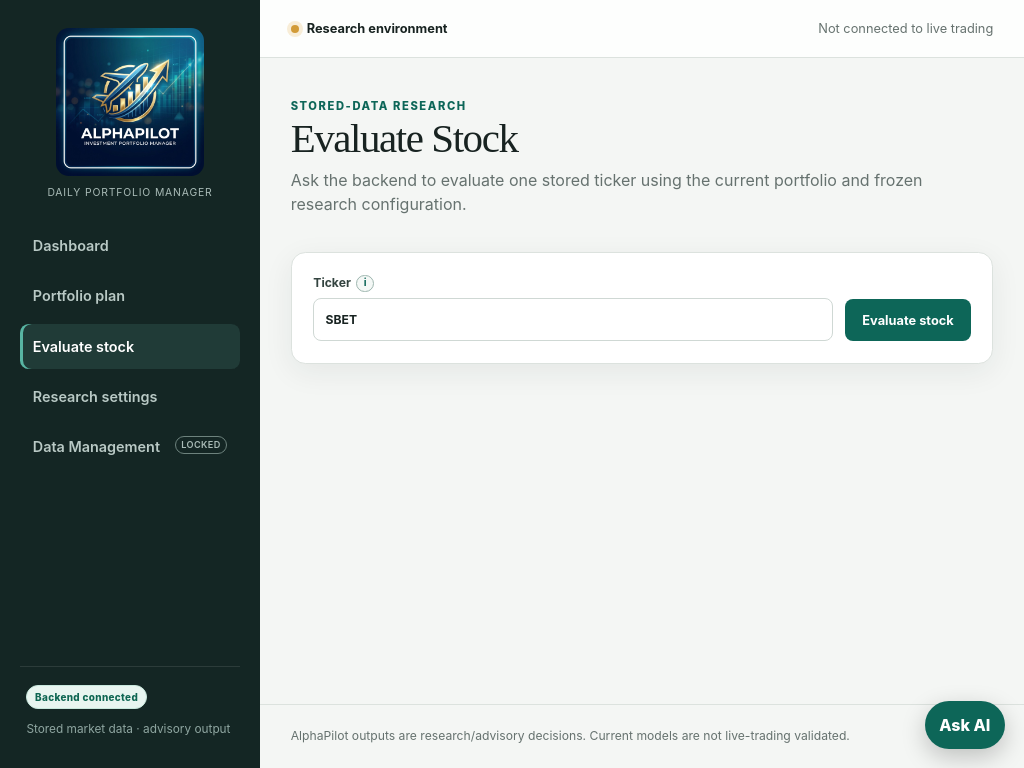
Test: held LDOS cannot replace explicitly requested custom ticker SBET
Click the button "Evaluate stock".
click(908, 320)  # box [845,299,971,341]
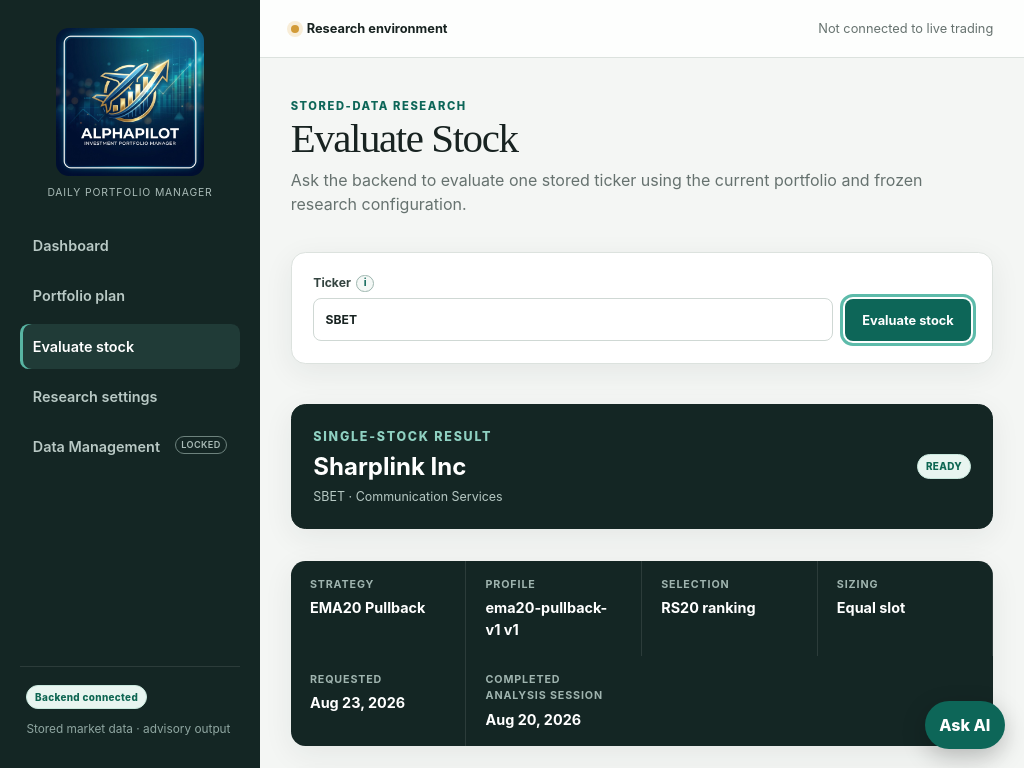
Result: the heading "Sharplink Inc" is shown at [313,452,466,481]
Result: the text "SBET · Communication Services" is shown at [313,488,503,506]
